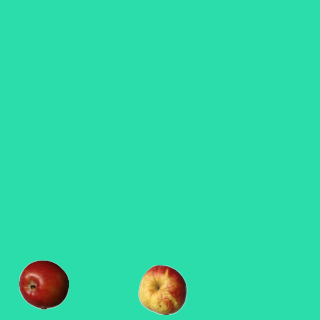Apple Braeburn: (18, 259, 68, 309)
Apple Red Yellow 1: (137, 264, 187, 314)
